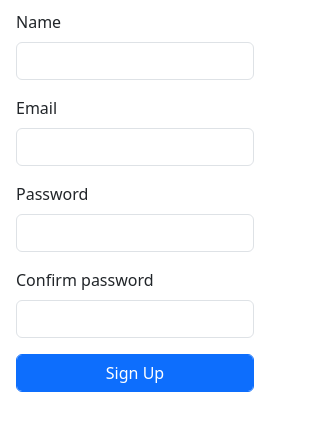
Test case: SignupPageComponent › when user interact with email field › should display error message when field do not contain a valid HTML5 email
Type "invalid-email" into the field with test id "email" at coordinates (135, 147), box [16, 128, 254, 166]
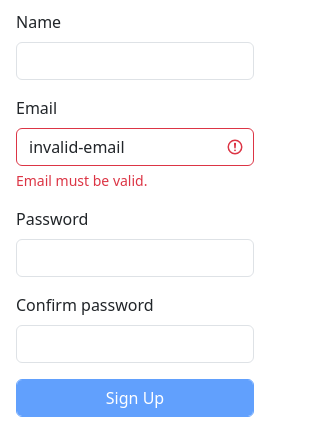
Result: the text with test id "error-email-pattern" reads "Email must be valid." at [16, 171, 147, 190]
